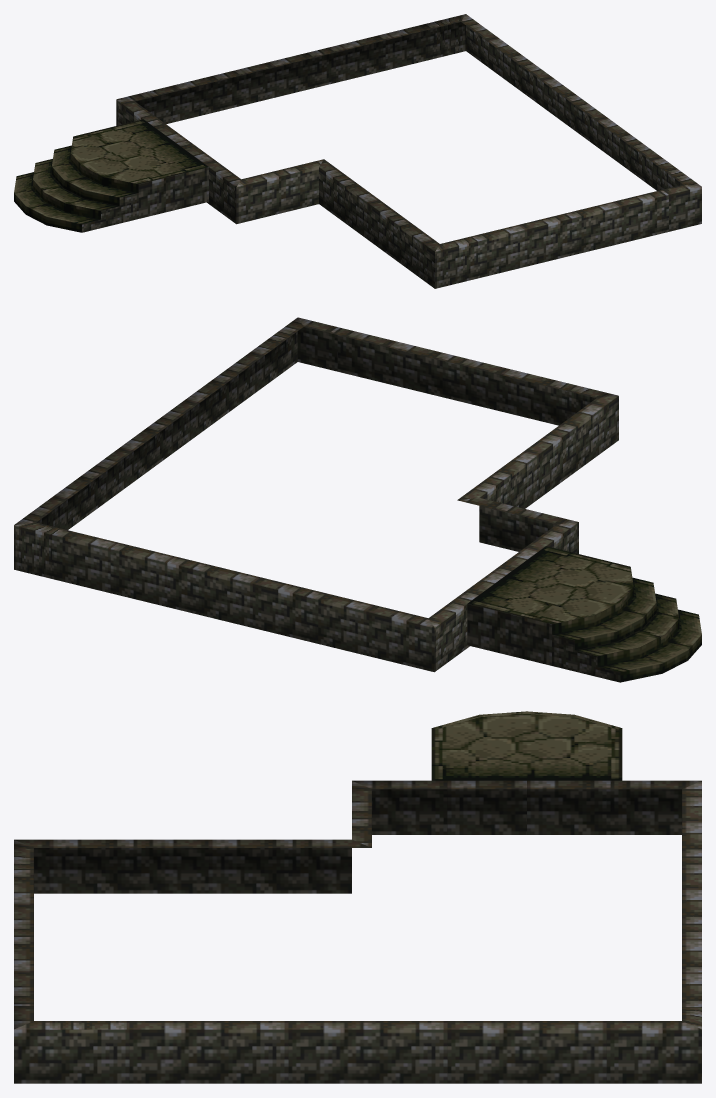
File: EnvBdgMD_WoodHouse_A_Outdoor_House_Home_Base_Broken.FBX
3 renders of one model, top to bottom at view 1: azimuth 30°, elevation 25°; view 2: azimuth 150°, elevation 25°; view 3: azimuth 270°, elevation 25°, orthographic. The views are drawn at different scales.
Parts seen in each view (by area): view 1: EnvBdgMD_WoodHouse_A_Outdoor_House_Home_Base_Broken; view 2: EnvBdgMD_WoodHouse_A_Outdoor_House_Home_Base_Broken; view 3: EnvBdgMD_WoodHouse_A_Outdoor_House_Home_Base_Broken.
Part boxes in pixels (bbox=[...]): EnvBdgMD_WoodHouse_A_Outdoor_House_Home_Base_Broken: bbox=[14, 14, 701, 288]; EnvBdgMD_WoodHouse_A_Outdoor_House_Home_Base_Broken: bbox=[14, 317, 701, 682]; EnvBdgMD_WoodHouse_A_Outdoor_House_Home_Base_Broken: bbox=[14, 711, 701, 1083].
Bounding box in the file's own units: 1059 × 75 × 865.
Materials: 1 (1 with a texture image).
